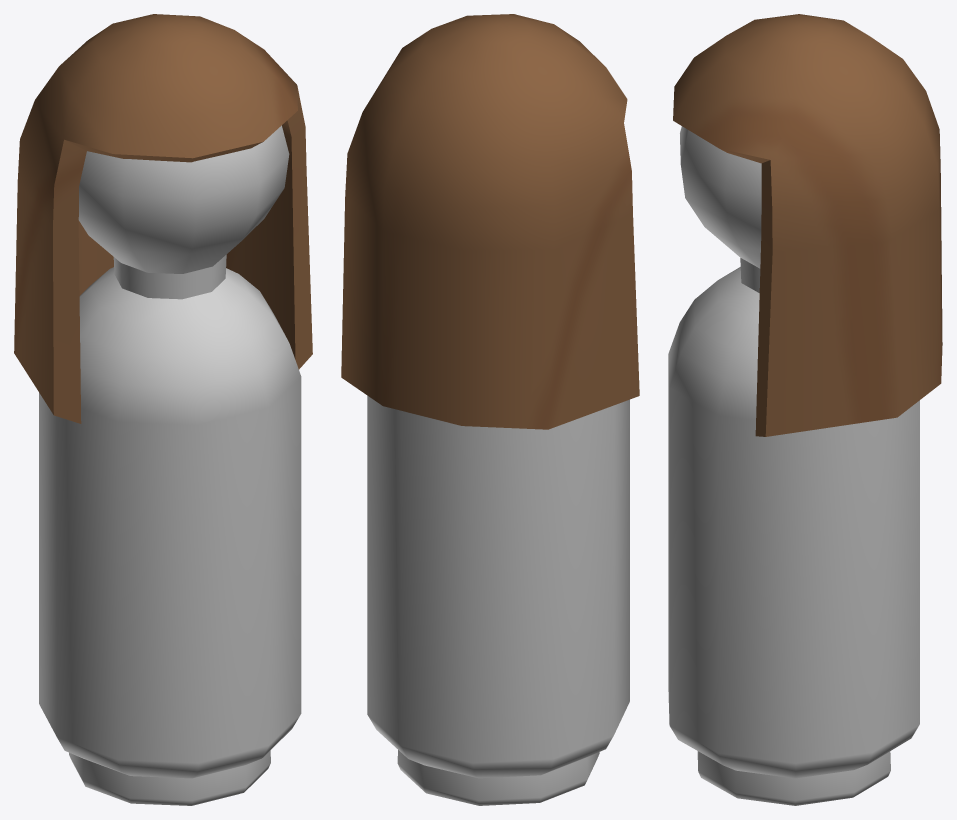
Rendered from Peg_Shirt_Long_LightBrownHair.fbx.
3 views of the same model, side by side, from view 1: azimuth 30°, elevation 25°; view 2: azimuth 150°, elevation 25°; view 3: azimuth 270°, elevation 25° (orthographic).
Parts seen in each view (by area): view 1: Peg_Shirt_Long_LightBrownHair; view 2: Peg_Shirt_Long_LightBrownHair; view 3: Peg_Shirt_Long_LightBrownHair.
Part boxes in pixels (x1=…): Peg_Shirt_Long_LightBrownHair: x1=14, y1=14, x2=312, y2=805; Peg_Shirt_Long_LightBrownHair: x1=341, y1=14, x2=639, y2=805; Peg_Shirt_Long_LightBrownHair: x1=668, y1=14, x2=942, y2=805.
Size of the model in its own units: 2.13 by 5.86 by 1.96.
